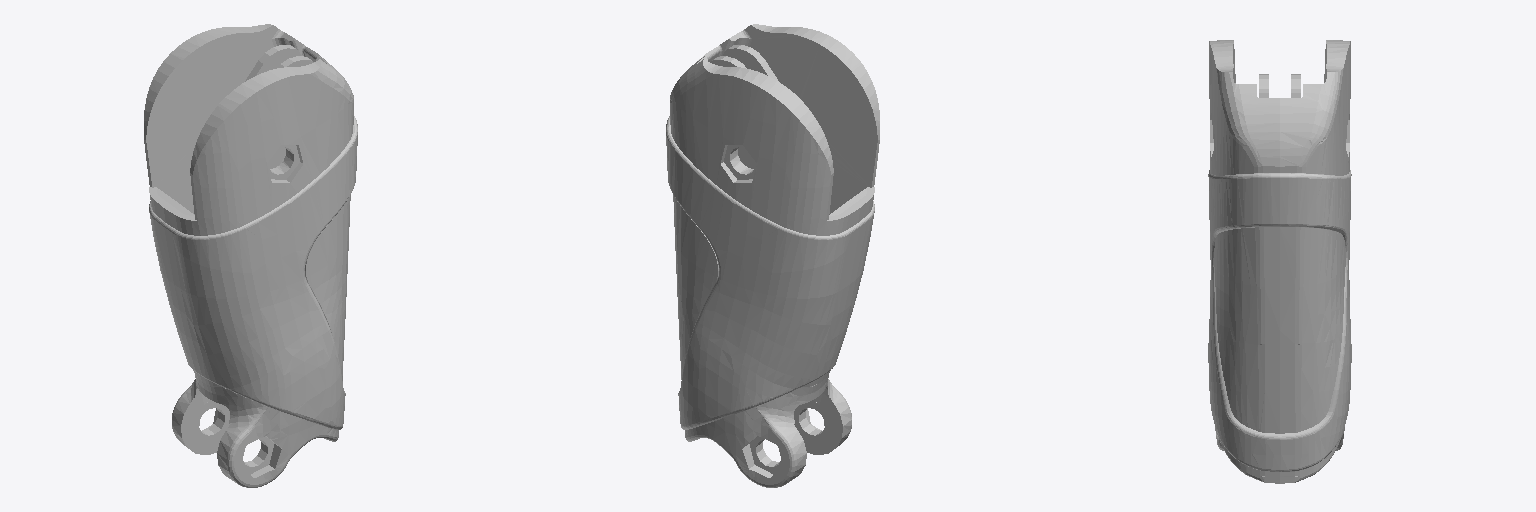
3 views of the same model, side by side, from view 1: azimuth 30°, elevation 25°; view 2: azimuth 150°, elevation 25°; view 3: azimuth 270°, elevation 25° (orthographic).
Visible parts, largest first — view 1: Link17_L; view 2: Link17_L; view 3: Link17_L.
Part boxes in pixels (bbox=[...]): Link17_L: bbox=[144, 24, 357, 487]; Link17_L: bbox=[666, 24, 879, 487]; Link17_L: bbox=[1208, 40, 1351, 483].
Size of the model in its own units: 0.0213 by 0.0452 by 0.0143.